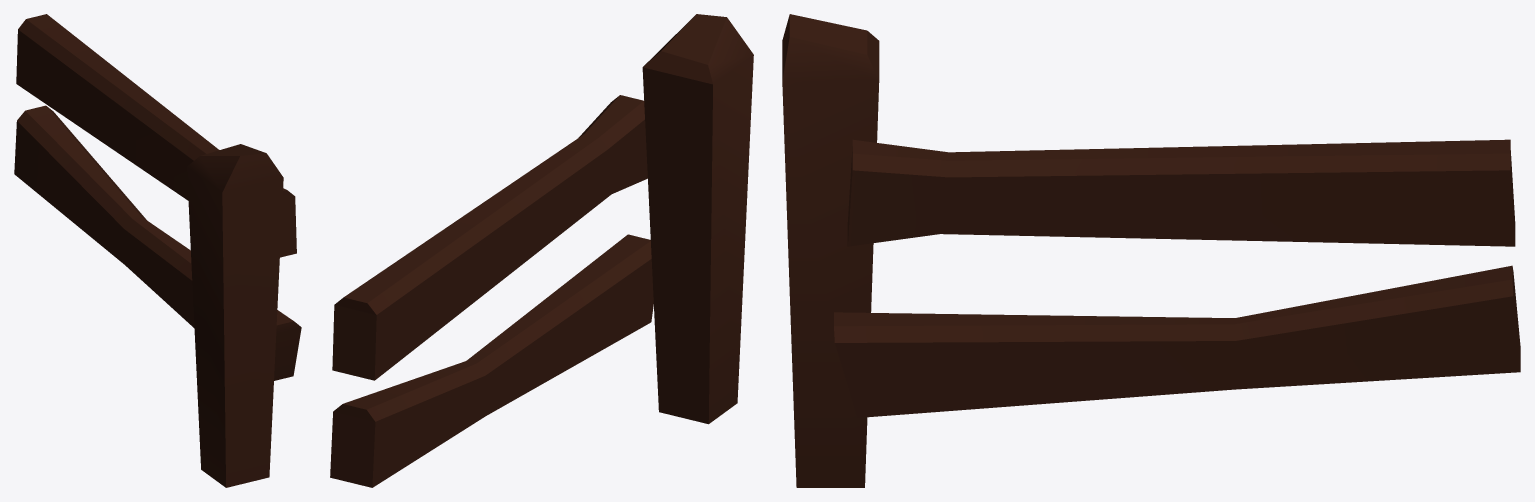
File: SM_Fence1.FBX
The picture shows the model from 3 angles, left to right: view 1: azimuth 30°, elevation 25°; view 2: azimuth 150°, elevation 25°; view 3: azimuth 270°, elevation 25°; orthographic projection. The views are drawn at different scales.
Parts seen in each view (by area): view 1: Box001; view 2: Box001; view 3: Box001.
Part boxes in pixels (x1,y1,x2,y2): Box001: [14, 14, 301, 487]; Box001: [330, 14, 753, 487]; Box001: [782, 14, 1520, 487].
Size of the model in its own units: 1.61 by 5.16 by 7.62.
